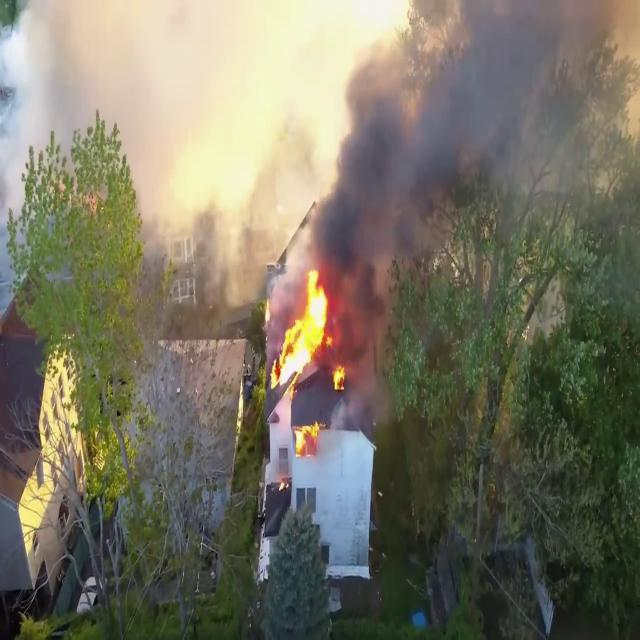Fire: (271, 268, 347, 390), (292, 417, 324, 453)
Smoke: (306, 0, 640, 304)
